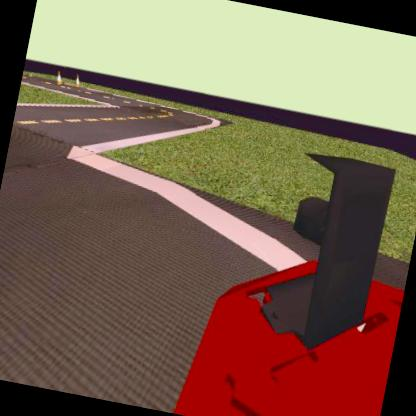Cone: (52, 67, 66, 88), (70, 70, 84, 91)
DuckieBot: (173, 129, 416, 416)
